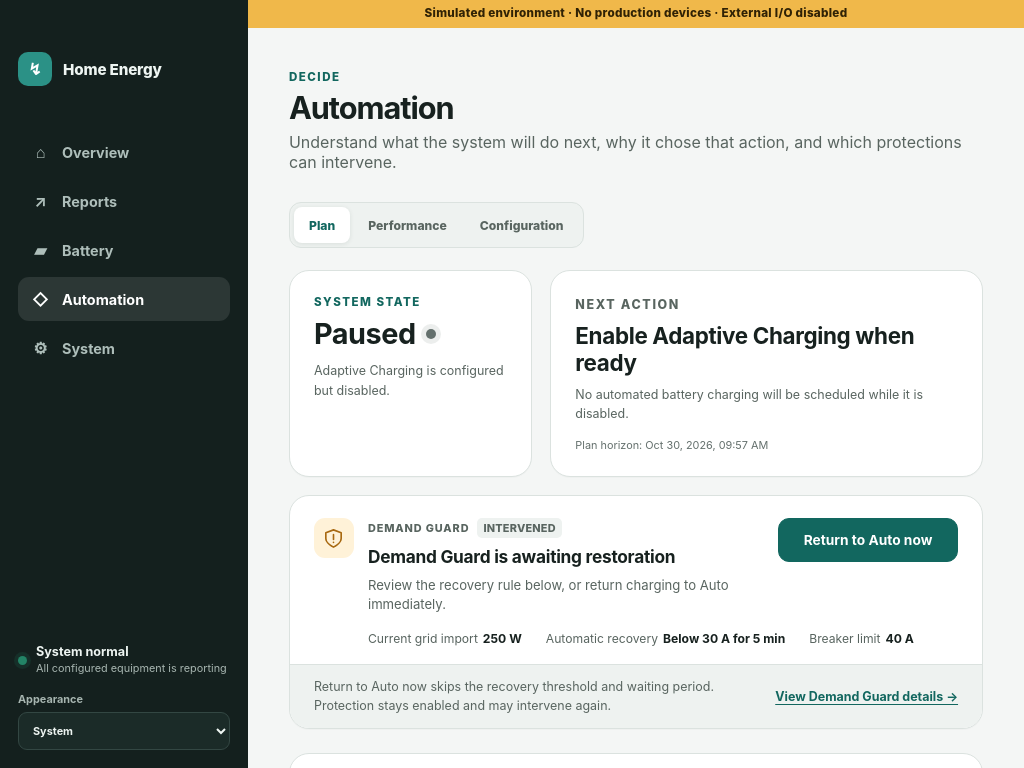
Test: React application shell › offers the same immediate restoration in Automation Active protections
Click the button "Return to Auto now" at (868, 540), box [778,518,958,562]
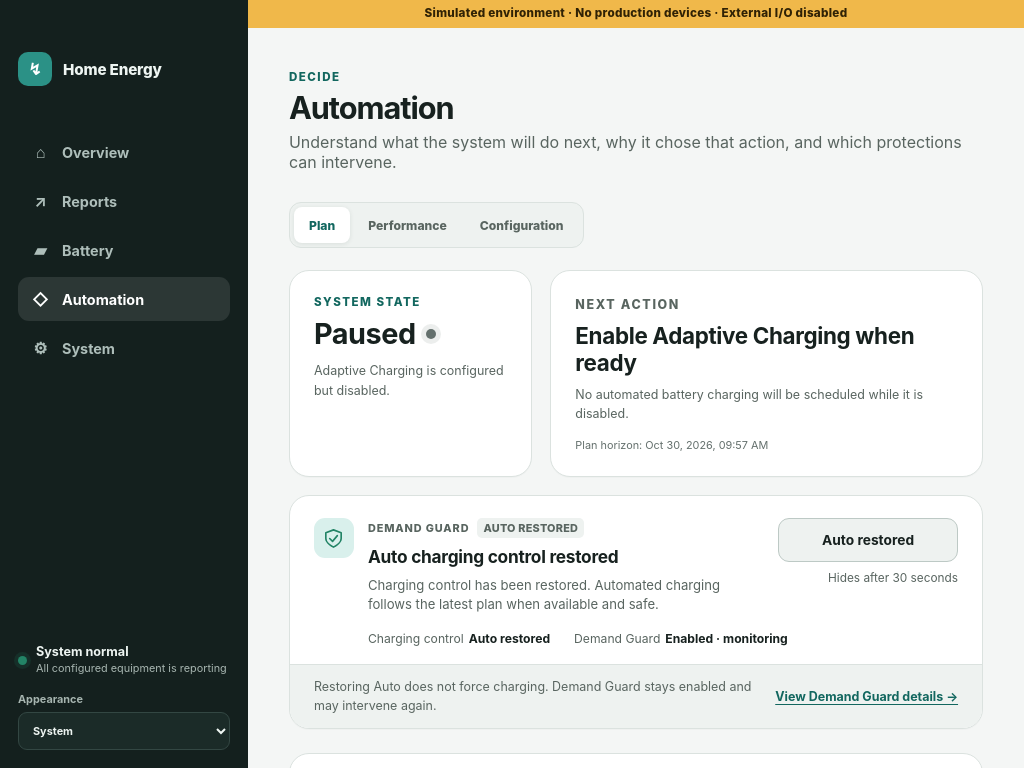
Result: the button "Auto restored" is disabled at [778,518,958,562]
Result: the button "Return to Auto now" is gone
